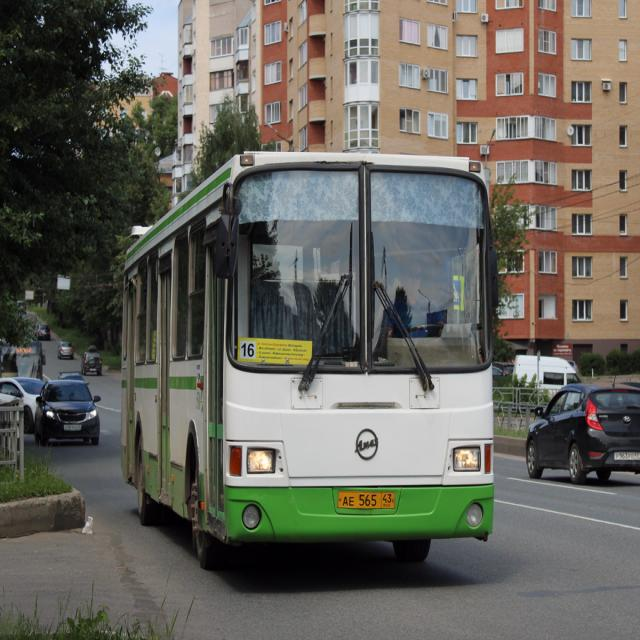number-of-bus: (241, 341, 256, 360)
